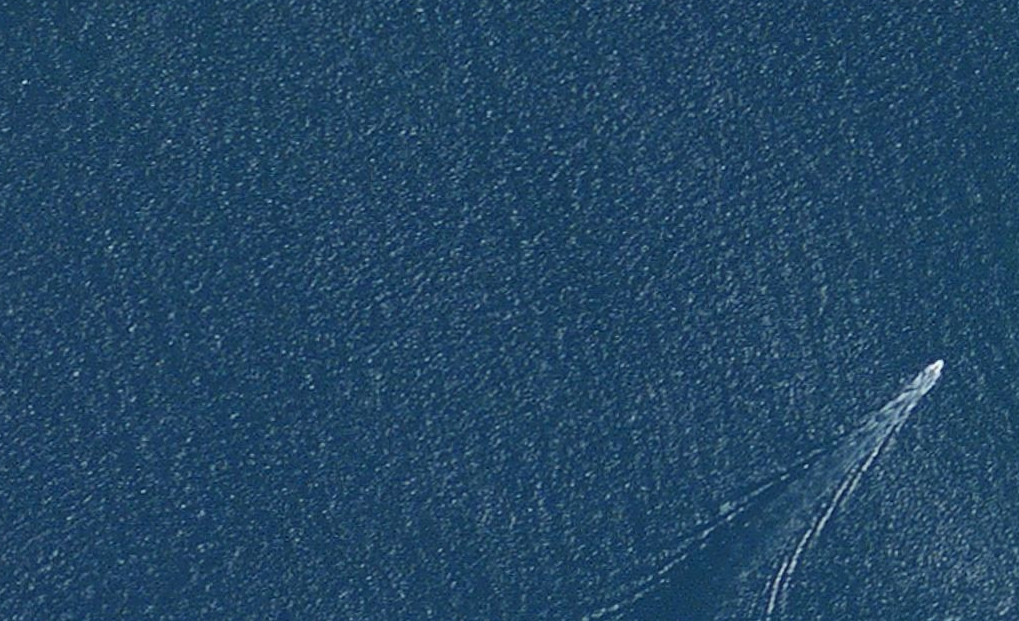ship: (918, 348, 953, 393)
